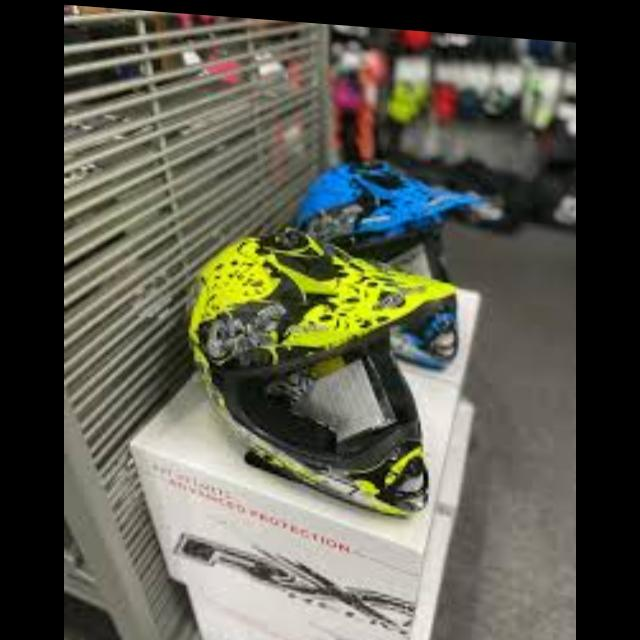motorcycle-helmets: (189, 230, 439, 515)
